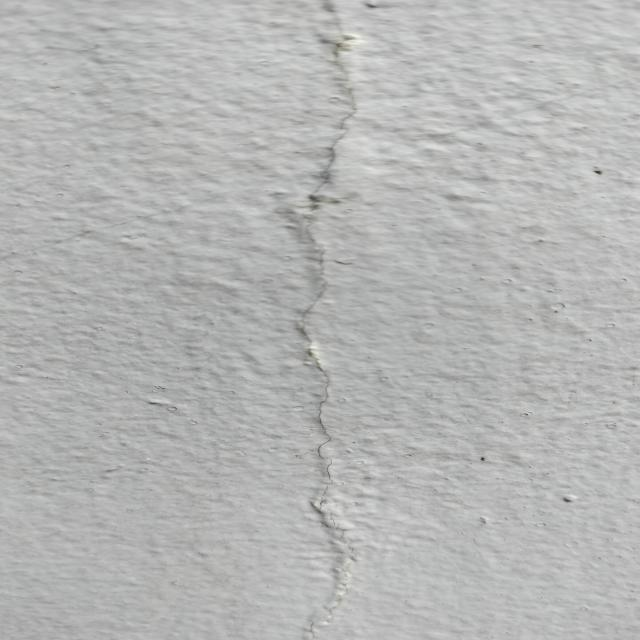Crack: (286, 5, 368, 640)
